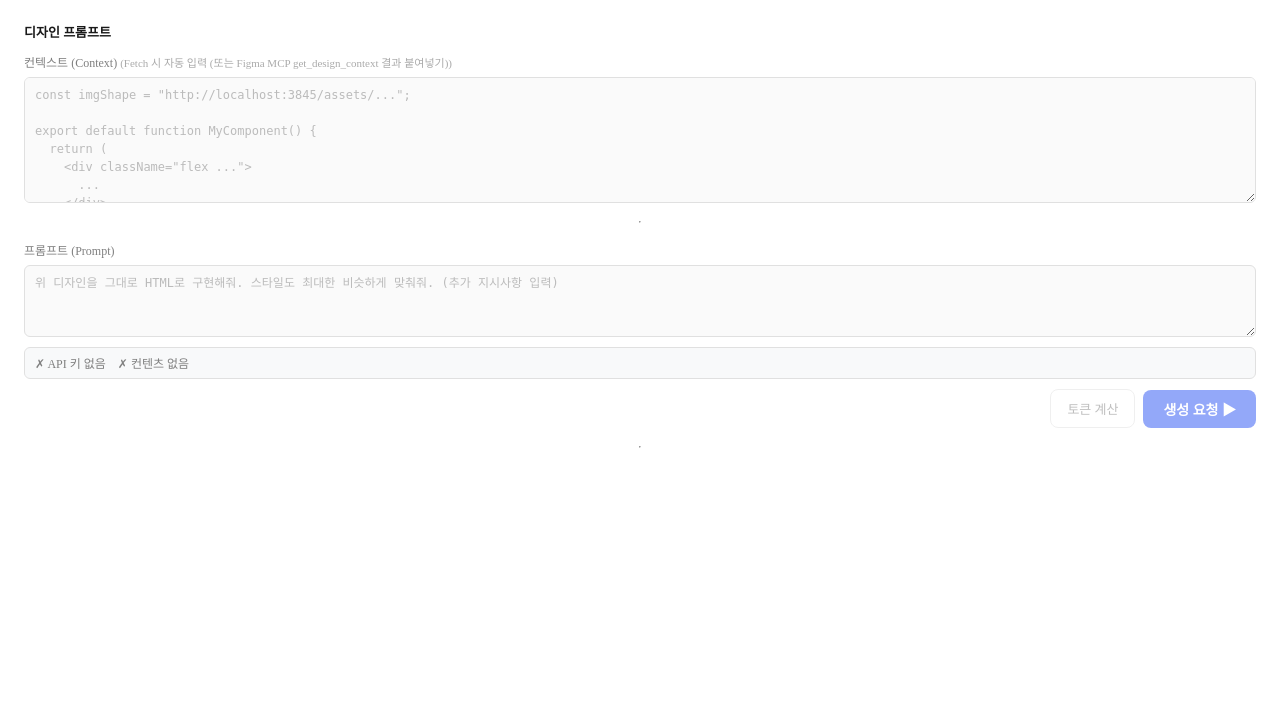
Test: InputPanel › optimizes MCP data when Optimize button is clicked
Step 1. Replace the text in the 1st text box with "<div data-node-id=\"123\"></div>" → (640, 140), box [24, 77, 1256, 203]
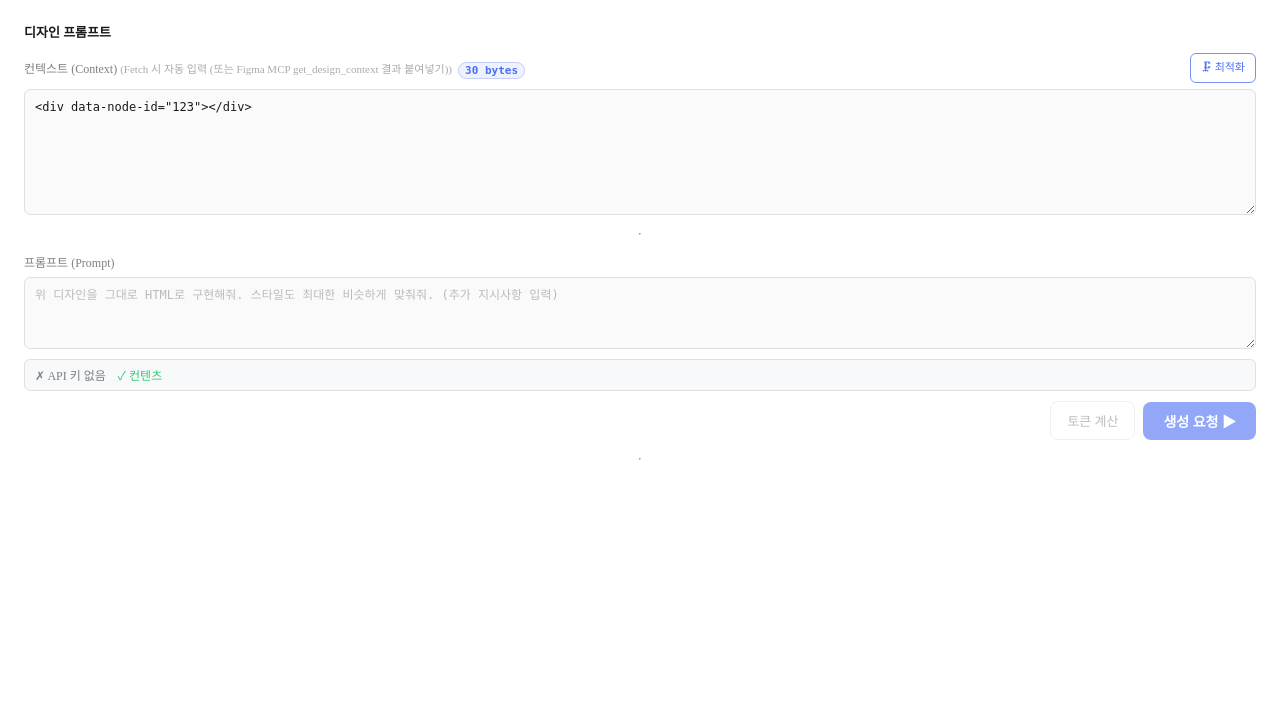
Step 2. Click the button "🗜 최적화" → click(1223, 68), box [1190, 53, 1256, 83]
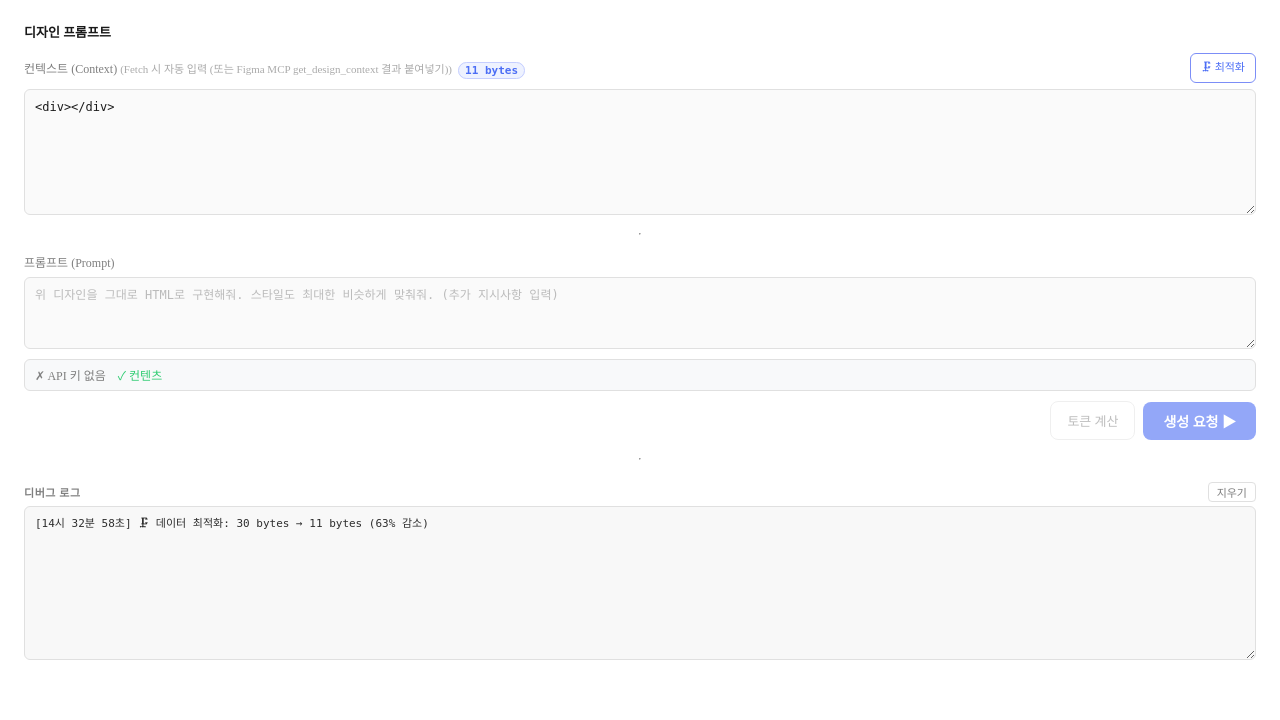
Expected: the text box that starts with "<div></div>" holds "<div></div>", [24, 89, 1256, 215]
